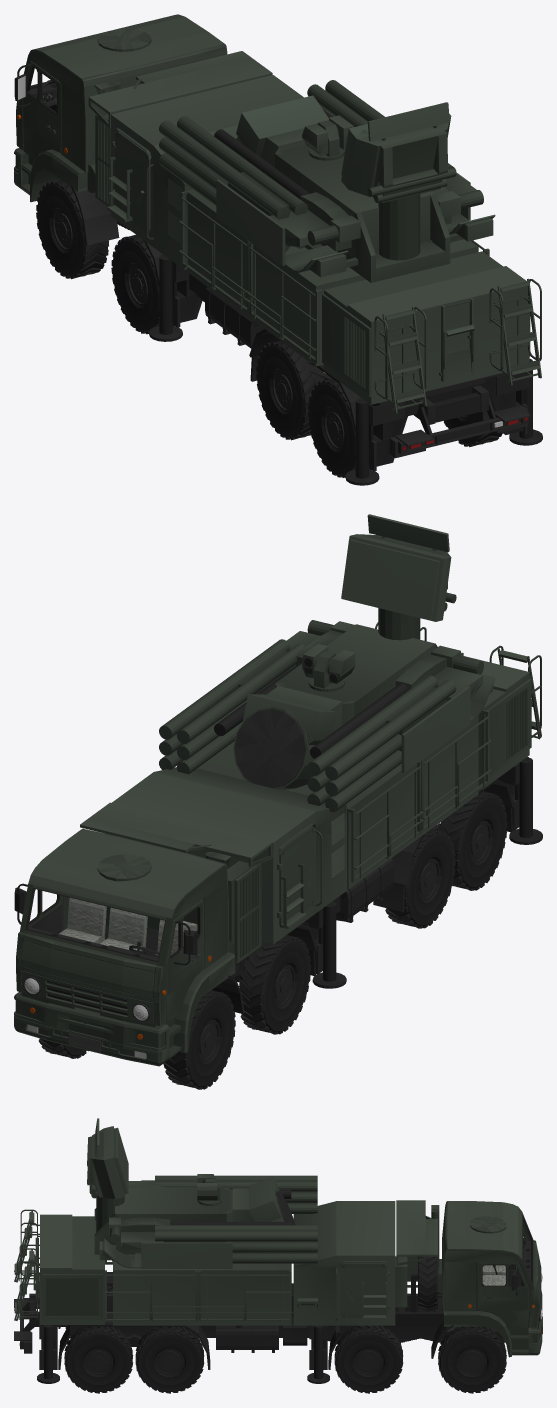
Rendered from pantsir.glb.
The picture shows the model from 3 angles, top to bottom: view 1: azimuth 30°, elevation 25°; view 2: azimuth 150°, elevation 25°; view 3: azimuth 270°, elevation 25°; orthographic projection. The views are drawn at different scales.
Visible parts, largest first — view 1: Body, TurretMesh; view 2: Body, TurretMesh; view 3: Body, TurretMesh.
Boxes of the visible parts, box(x1,y1,x2,y2) form: Body: box(14, 14, 542, 485); TurretMesh: box(159, 80, 495, 282); Body: box(14, 622, 542, 1089); TurretMesh: box(159, 514, 495, 812); Body: box(14, 1200, 542, 1393); TurretMesh: box(87, 1118, 317, 1268).
Size of the model in its own units: 2.6 by 4.45 by 9.
1 material, 1 textured.
